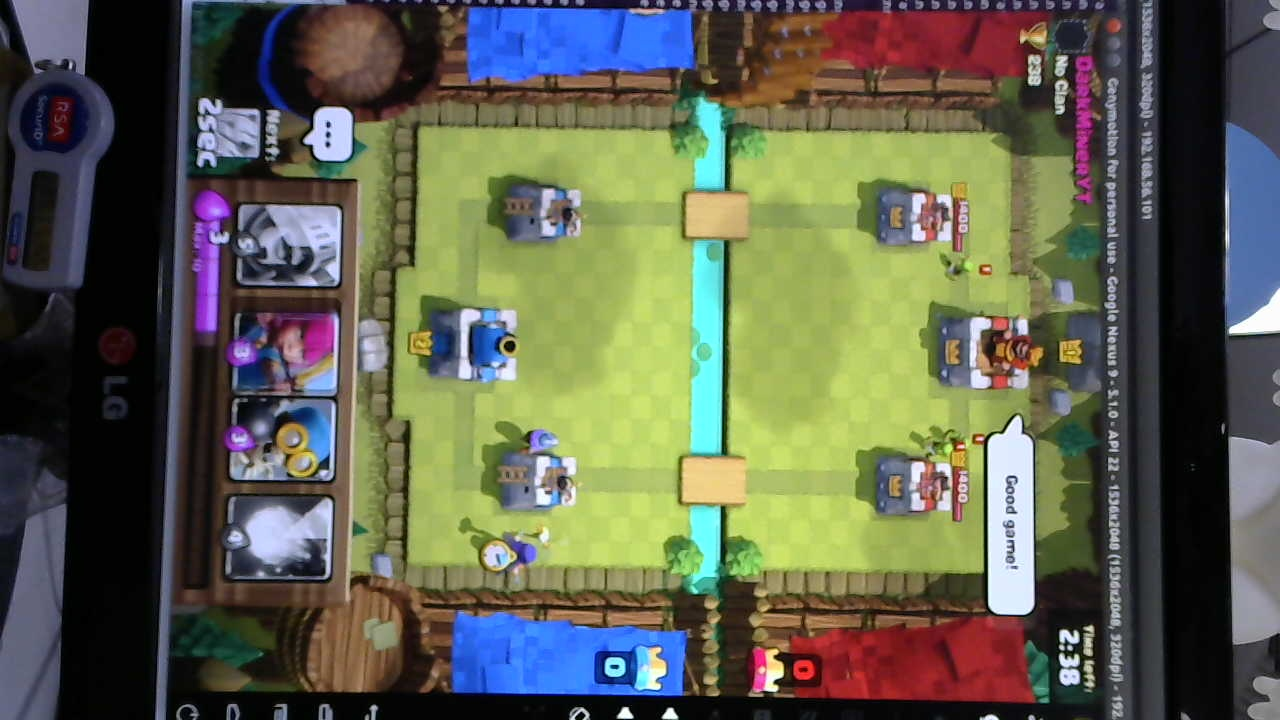arena: (500, 180, 586, 245), (497, 450, 583, 514)
earena: (876, 183, 957, 250), (873, 454, 951, 519)
eking: (935, 309, 1042, 393)
goblin: (940, 255, 980, 288)
goblins: (914, 424, 979, 459)
king: (425, 306, 525, 384)
musketeer: (504, 422, 566, 457)
witch: (487, 526, 552, 574)
